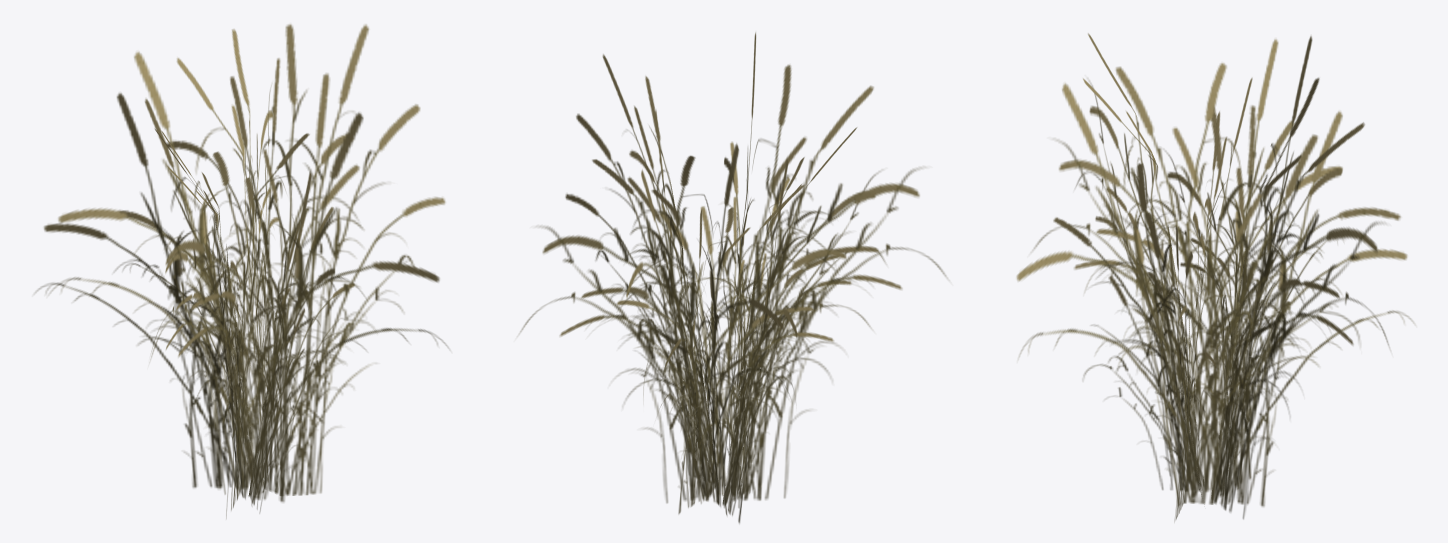
The model's file is ichu_15.glb.
The picture shows the model from 3 angles, left to right: view 1: azimuth 30°, elevation 25°; view 2: azimuth 150°, elevation 25°; view 3: azimuth 270°, elevation 25°; orthographic projection. The views are drawn at different scales.
Parts seen in each view (by area): view 1: Ichu; view 2: Ichu; view 3: Ichu.
Boxes of the visible parts, left/top/right/bottom form: Ichu: left=35, top=24, right=448, bottom=518; Ichu: left=519, top=32, right=947, bottom=523; Ichu: left=1016, top=33, right=1414, bottom=521.
Size of the model in its own units: 0.4834 by 0.56 by 0.4765.
1 material, 1 textured.
